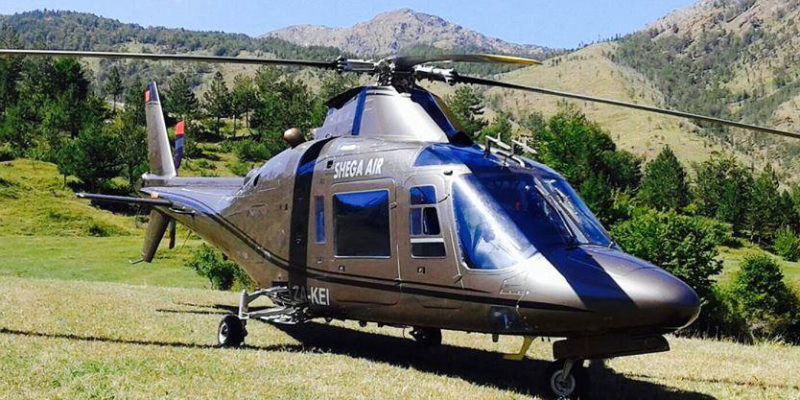Helicopter: (131, 32, 742, 378)
